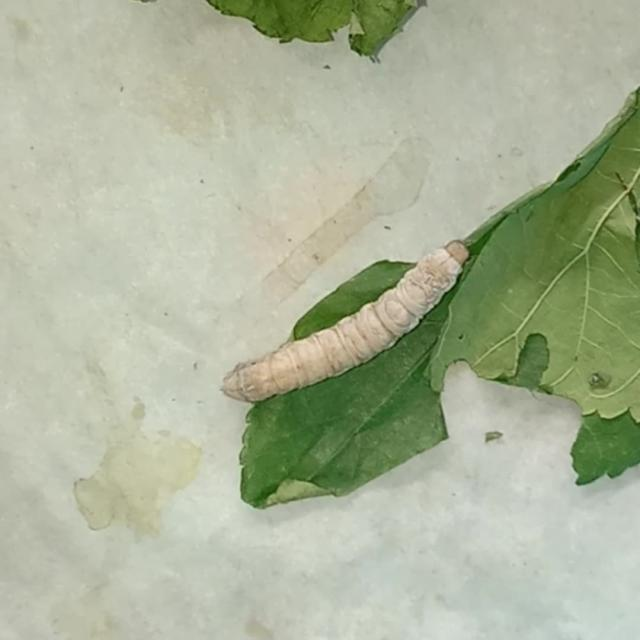Grasserie: (217, 222, 502, 434)
